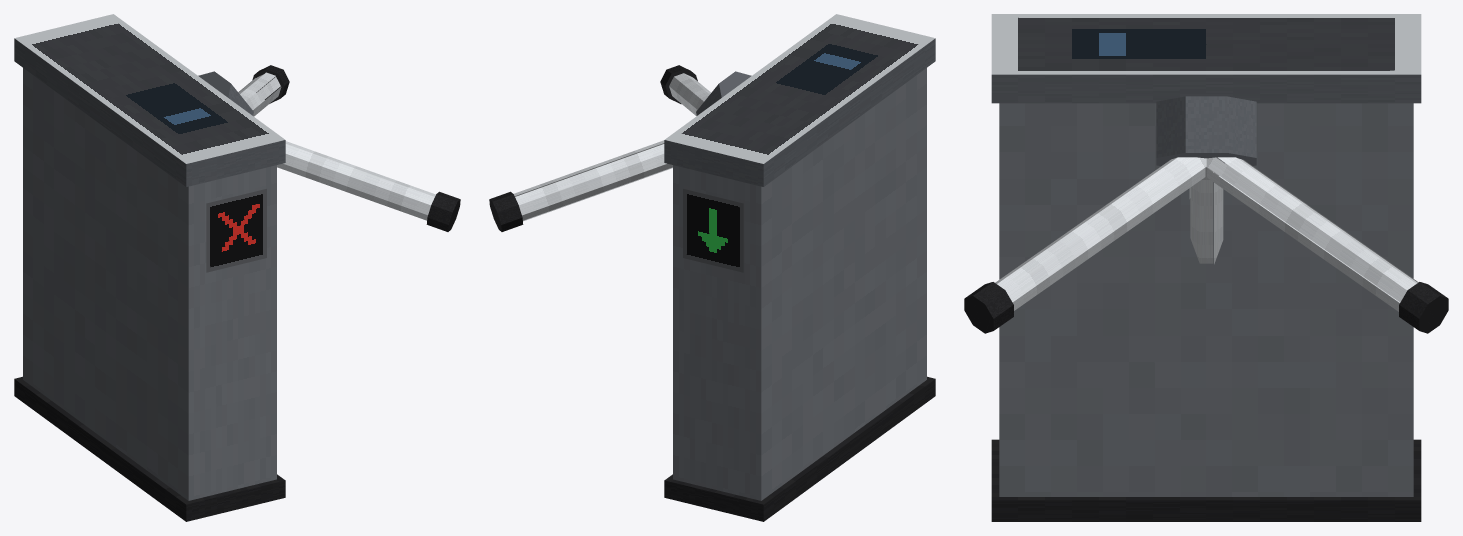
The model's file is turnstile_turned_green.obj.
3 views of the same model, side by side, from view 1: azimuth 30°, elevation 25°; view 2: azimuth 150°, elevation 25°; view 3: azimuth 270°, elevation 25° (orthographic). The views are drawn at different scales.
Parts seen in each view (by area): view 1: turnstile_turned_green; view 2: turnstile_turned_green; view 3: turnstile_turned_green.
Boxes of the visible parts, x1,y1,x2,y2 form: turnstile_turned_green: (14, 14, 460, 521); turnstile_turned_green: (489, 14, 935, 521); turnstile_turned_green: (964, 14, 1448, 521).
Bounding box in the file's own units: 0.7779 × 0.9688 × 0.9499.
